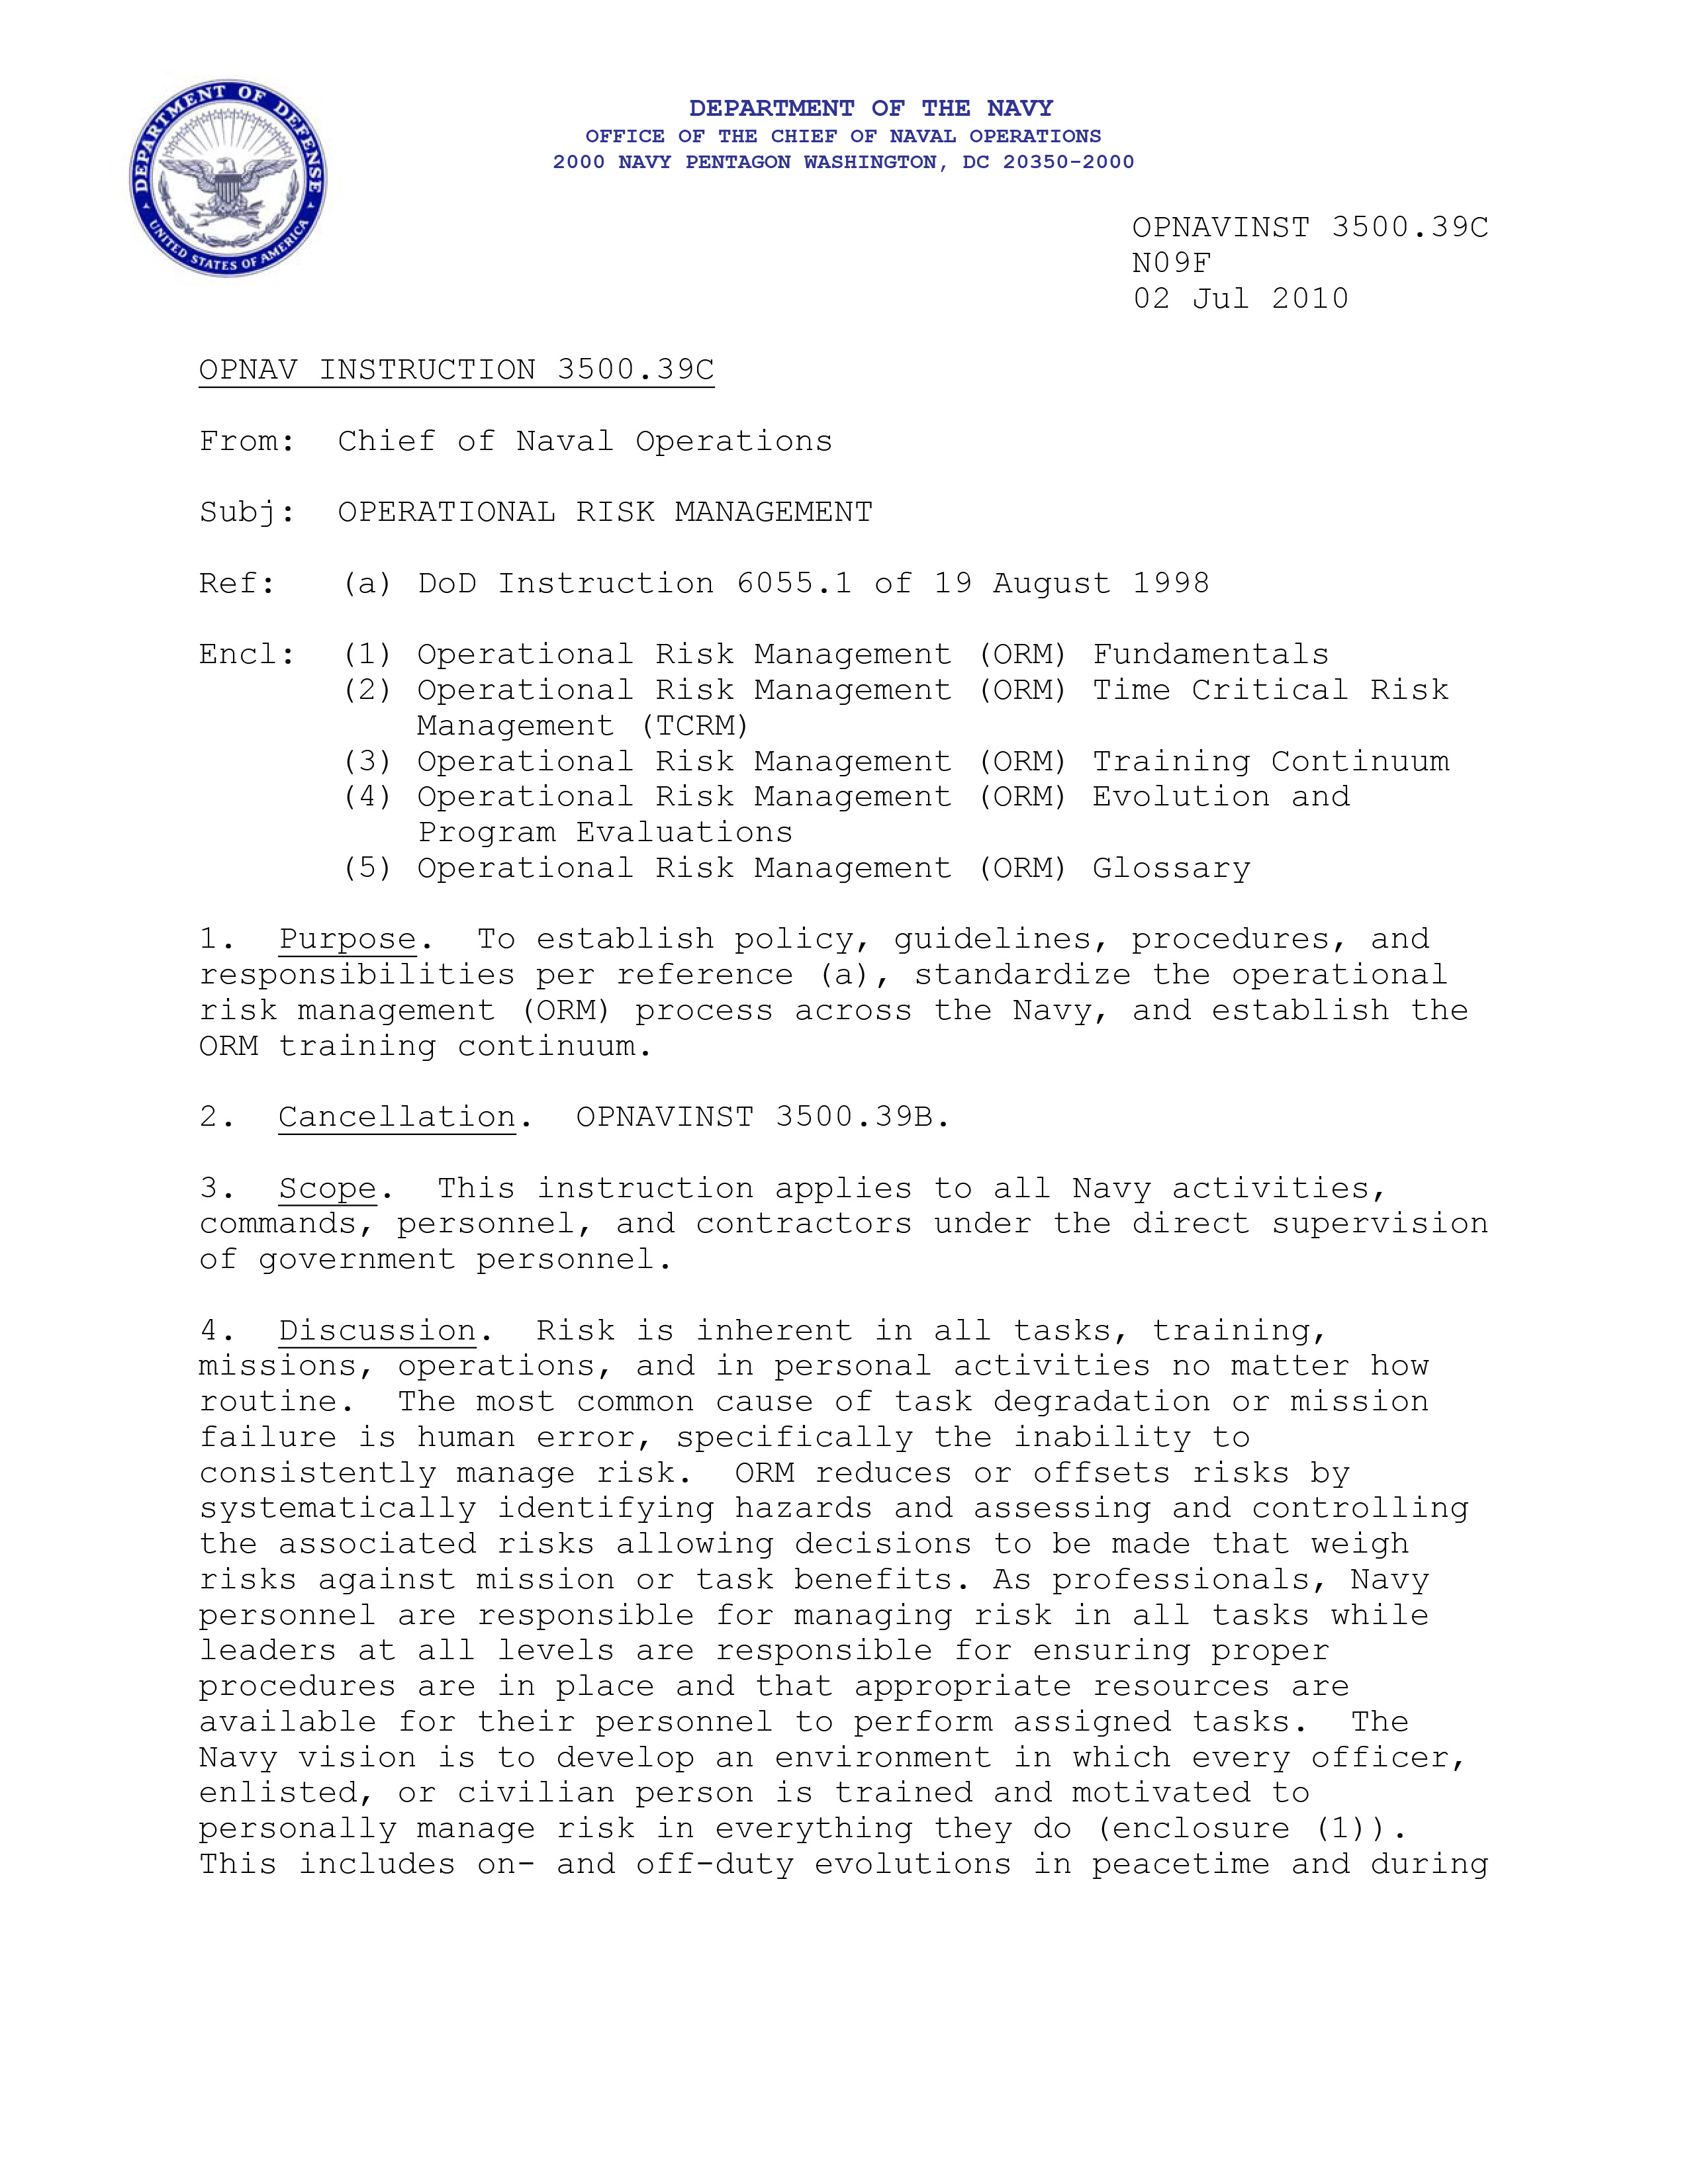figure: (115, 80, 340, 280)
list: (337, 642, 1472, 901), (344, 679, 1459, 745), (346, 789, 1353, 853), (340, 753, 1459, 782), (340, 863, 1277, 892), (346, 642, 1335, 667)
section: (559, 87, 1138, 170), (197, 353, 729, 395), (202, 1103, 527, 1138), (199, 920, 440, 959), (199, 1319, 481, 1351), (197, 1168, 392, 1209)
text: (190, 1308, 1511, 1888), (186, 916, 1475, 1062), (179, 1161, 1495, 1273), (1133, 209, 1495, 326), (199, 571, 1209, 606), (193, 491, 869, 539), (199, 424, 837, 459), (567, 1097, 947, 1129), (193, 638, 289, 670)
